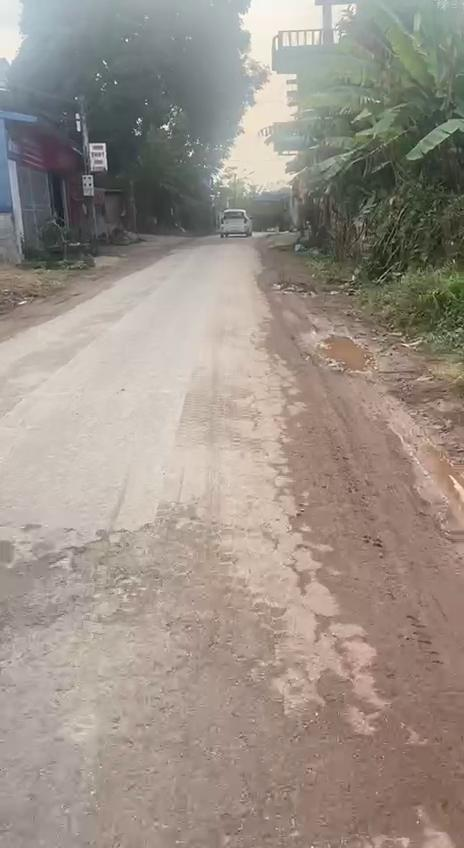pothole: (309, 324, 376, 380)
